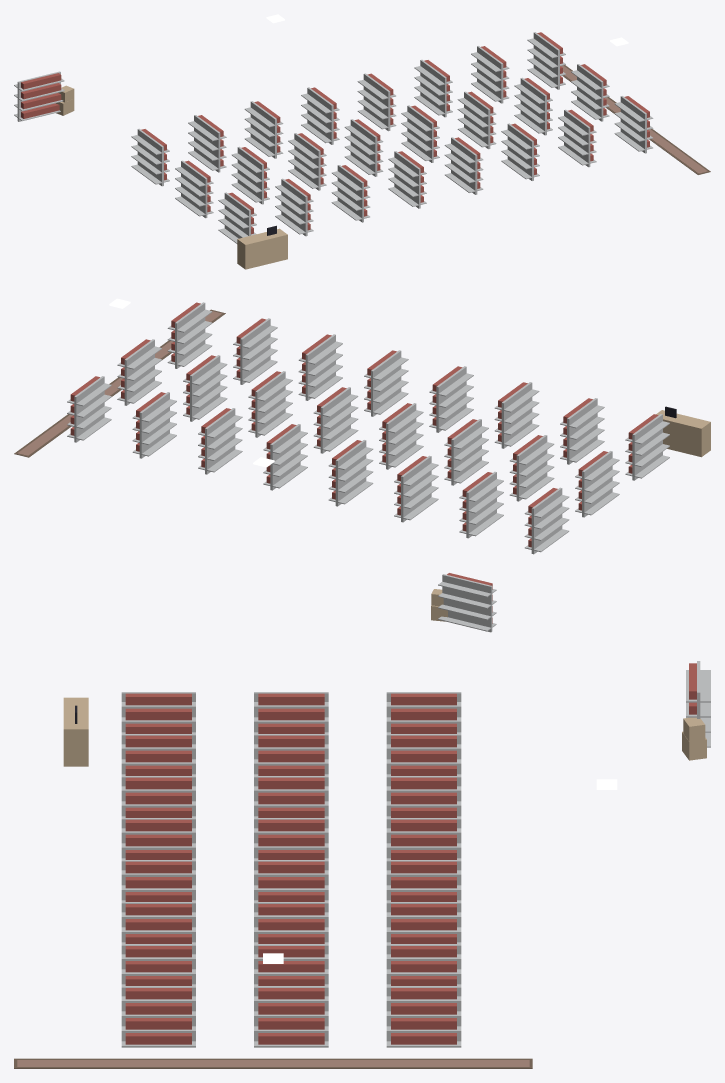
Rendered from fine-s0.glb.
3 views of the same model, one above another, from view 1: azimuth 30°, elevation 25°; view 2: azimuth 150°, elevation 25°; view 3: azimuth 270°, elevation 25° (orthographic). The views are drawn at different scales.
Parts seen in each view (by area): view 1: shelving.000, shop-counter.000, shelf.012, shelf.010, shelf.006, shelf.008, shelf.016, shelf.020, shelf.015, shelf.019, shelf.009, shelf.014 (+16 smaller); view 2: shelving.000, shelf.004, shelf.008, shelf.000, shelf.003, shelf.021, shelf.007, shelf.009, shelf.015, shelf.016, shelf.023, shelf.002 (+15 smaller); view 3: soft-s0, shelf.021, shelf.022, shelf.023, shelf.000, shelf.003, shelf.006, shelf.009, shelf.012, shelf.015, shelf.018, shelf.001 (+16 smaller).
Boxes of the visible parts, x1,y1,x2,y2 form: shelving.000: [14, 71, 64, 121]; shop-counter.000: [237, 225, 287, 269]; shelf.012: [357, 73, 396, 131]; shelf.010: [344, 119, 383, 176]; shelf.006: [244, 101, 283, 158]; shelf.008: [331, 165, 370, 222]; shelf.016: [457, 91, 496, 149]; shelf.020: [558, 109, 596, 167]; shelf.015: [414, 59, 452, 117]; shelf.019: [514, 77, 552, 135]; shelf.009: [301, 87, 339, 144]; shelf.014: [444, 137, 483, 194]; shelving.000: [438, 573, 496, 632]; shelf.004: [509, 435, 554, 501]; shelf.008: [494, 382, 539, 448]; shelf.000: [524, 487, 569, 554]; shelf.003: [459, 471, 503, 538]; shelf.021: [67, 376, 111, 442]; shelf.007: [444, 419, 488, 485]; shelf.009: [328, 440, 373, 506]; shelf.015: [198, 408, 242, 474]; shelf.016: [248, 371, 292, 437]; shelf.023: [167, 302, 212, 368]; shelf.002: [625, 414, 669, 480]; soft-s0: [14, 1058, 532, 1068]; shelf.021: [386, 986, 461, 1047]; shelf.022: [254, 986, 328, 1047]; shelf.023: [121, 986, 195, 1047]; shelf.000: [386, 692, 461, 733]; shelf.003: [386, 734, 461, 775]; shelf.006: [386, 776, 461, 817]; shelf.009: [386, 818, 461, 859]; shelf.012: [386, 860, 461, 901]; shelf.015: [386, 902, 461, 943]; shelf.018: [386, 944, 461, 985]; shelf.001: [254, 692, 328, 733].
Bounding box in the file's own units: 19.85 × 2.83 × 16.82.
